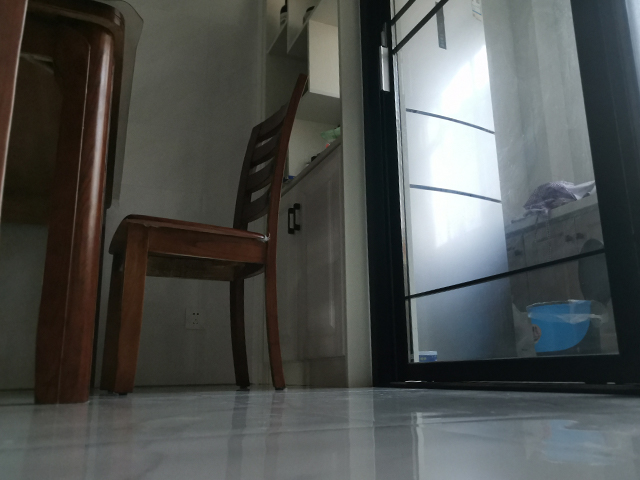cabinet: (276, 138, 369, 392)
stool: (97, 72, 309, 396)
table: (1, 1, 148, 407)
